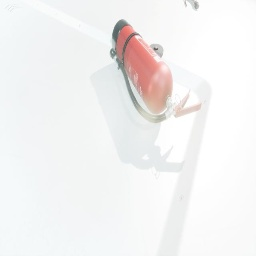FireExtinguisher ]: (110, 19, 202, 124)
